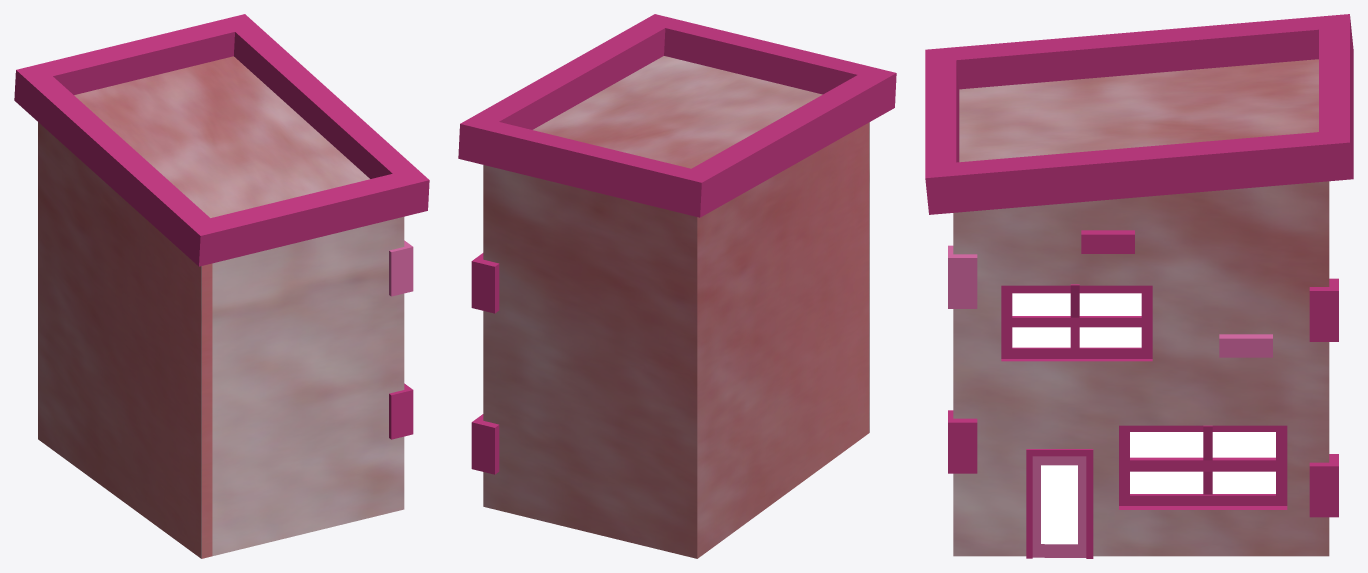
Rendered from Marshmallow Fluff building.fbx.
3 renders of one model, left to right at view 1: azimuth 30°, elevation 25°; view 2: azimuth 150°, elevation 25°; view 3: azimuth 270°, elevation 25°, orthographic. The views are drawn at different scales.
Parts seen in each view (by area): view 1: Cube.069; view 2: Cube.069; view 3: Cube.069.
Part boxes in pixels (x1=…): Cube.069: x1=14, y1=14, x2=429, y2=558; Cube.069: x1=458, y1=14, x2=896, y2=558; Cube.069: x1=925, y1=14, x2=1353, y2=558.
Size of the model in its own units: 1048 by 1606 by 1475.
Materials: 4 (1 with a texture image).
